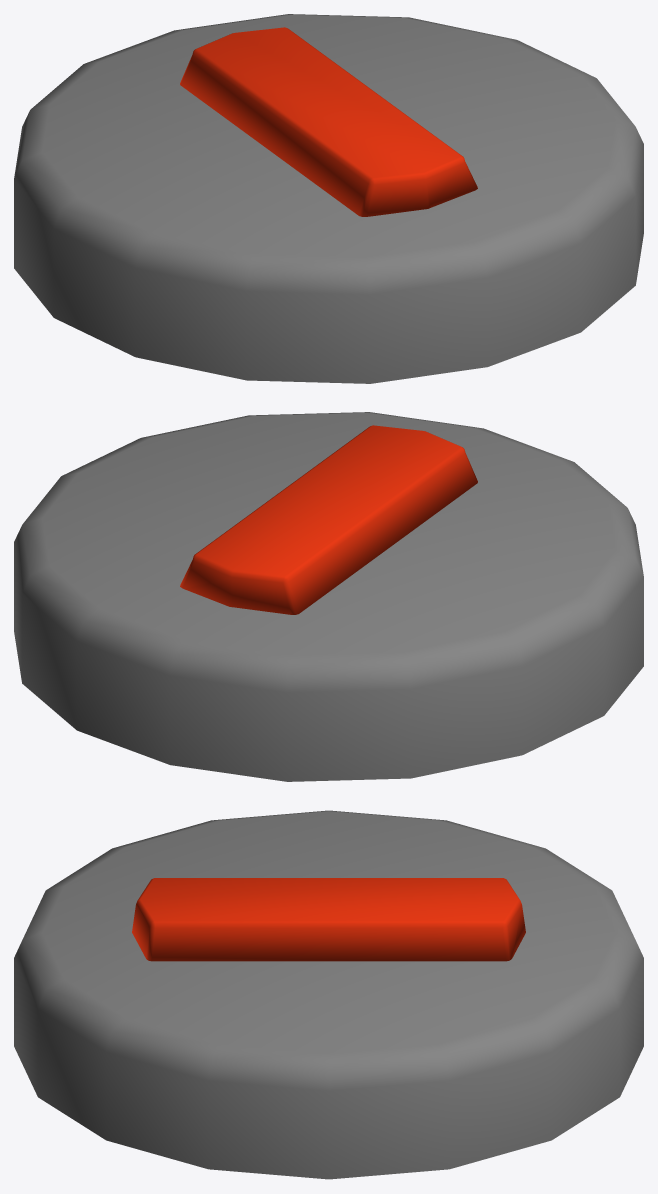
The model's file is MC_Knob.fbx.
3 renders of one model, top to bottom at view 1: azimuth 30°, elevation 25°; view 2: azimuth 150°, elevation 25°; view 3: azimuth 270°, elevation 25°, orthographic.
Visible parts, largest first — view 1: DeepFryerKnob; view 2: DeepFryerKnob; view 3: DeepFryerKnob.
Part boxes in pixels (left/top/right/bottom): DeepFryerKnob: left=14, top=14, right=643, bottom=383; DeepFryerKnob: left=14, top=412, right=643, bottom=781; DeepFryerKnob: left=14, top=810, right=643, bottom=1179.
Bounding box in the file's own units: 34.15 × 8.79 × 34.15.
